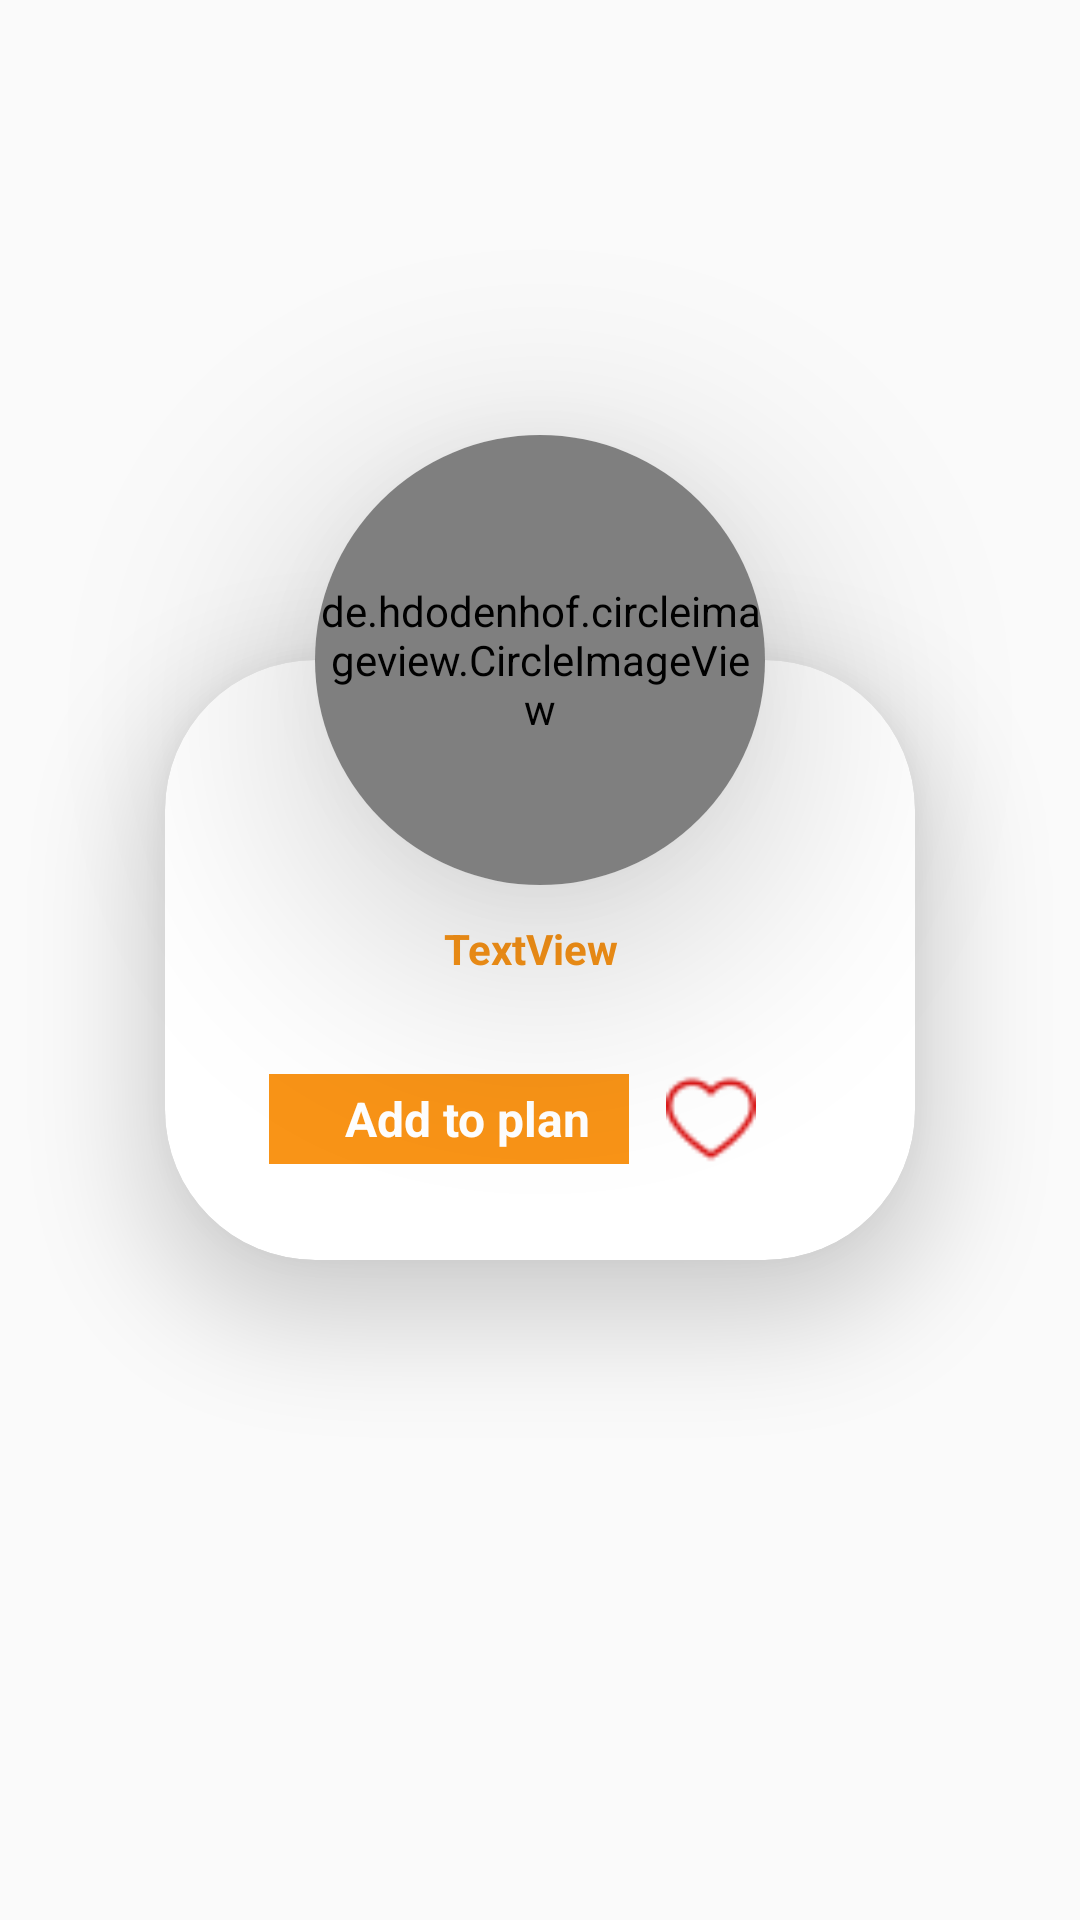

Where icons sit on this 1080px x 1920px app screen, as (x1=x1, y1=y1, x2=x2, y2=y2):
fav: (x1=666, y1=1077, x2=756, y2=1161)
